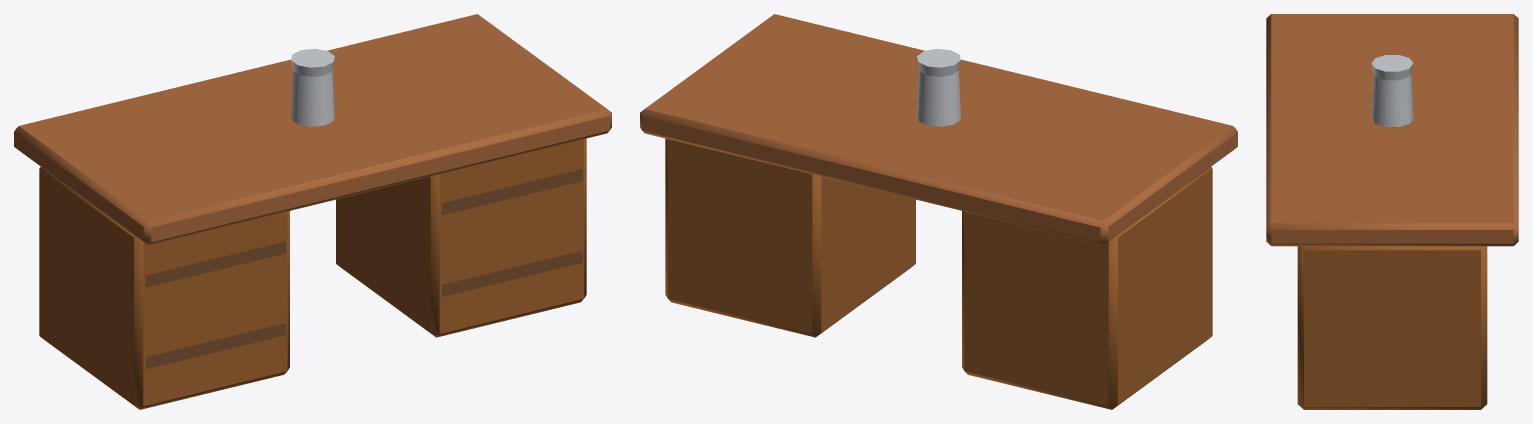
Rendered from growth_crate_table.glb.
3 renders of one model, left to right at view 1: azimuth 30°, elevation 25°; view 2: azimuth 150°, elevation 25°; view 3: azimuth 270°, elevation 25°, orthographic. The views are drawn at different scales.
Visible parts, largest first — view 1: growth_crate_table; view 2: growth_crate_table; view 3: growth_crate_table.
Part boxes in pixels (<box>): growth_crate_table: <box>14,14,611,409</box>; growth_crate_table: <box>640,14,1237,409</box>; growth_crate_table: <box>1266,14,1518,409</box>.
Bounding box in the file's own units: 1.2 × 0.645 × 0.6.
1 material, 1 textured.
